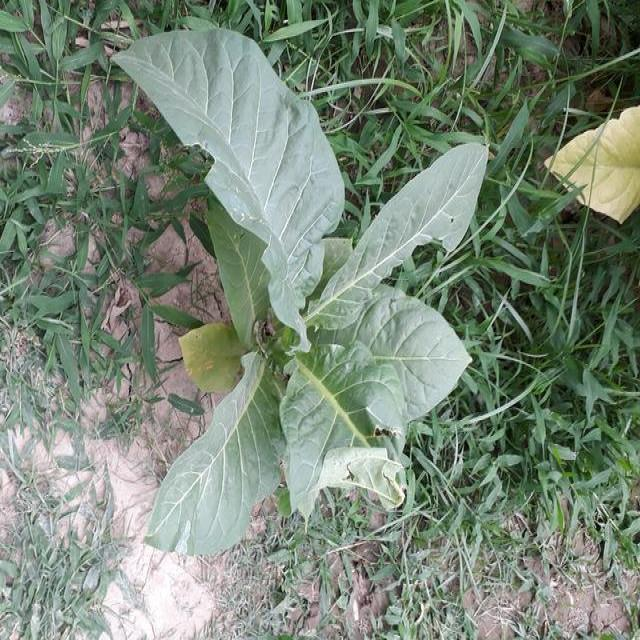crop: (114, 42, 490, 556)
